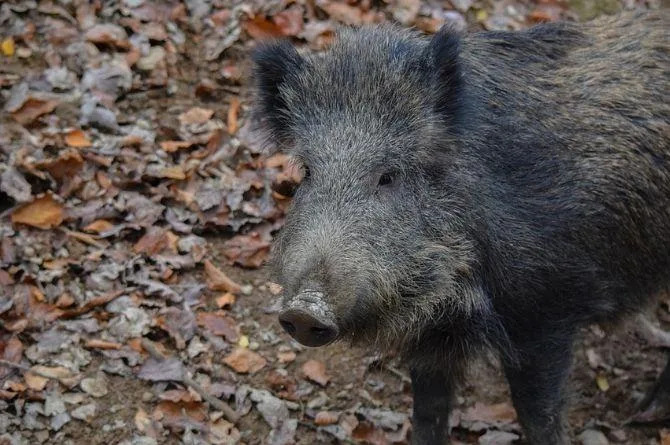boar: (244, 6, 668, 432)
